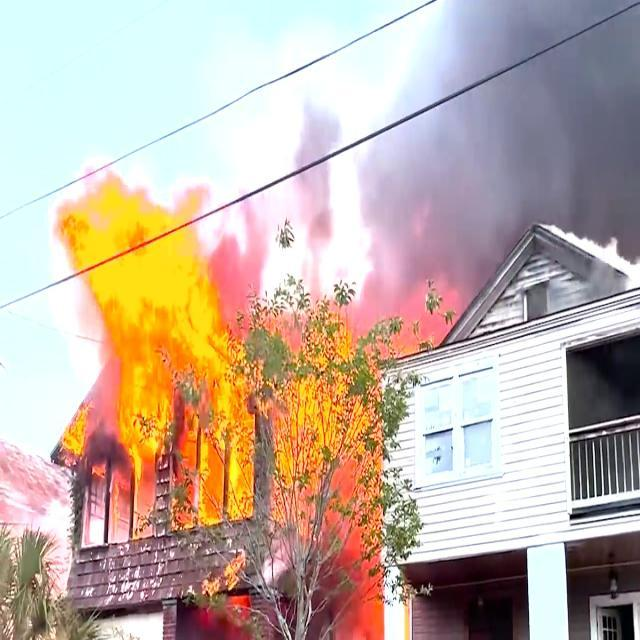Fire: (58, 172, 255, 524), (264, 307, 373, 640)
Smoke: (360, 0, 640, 215)
